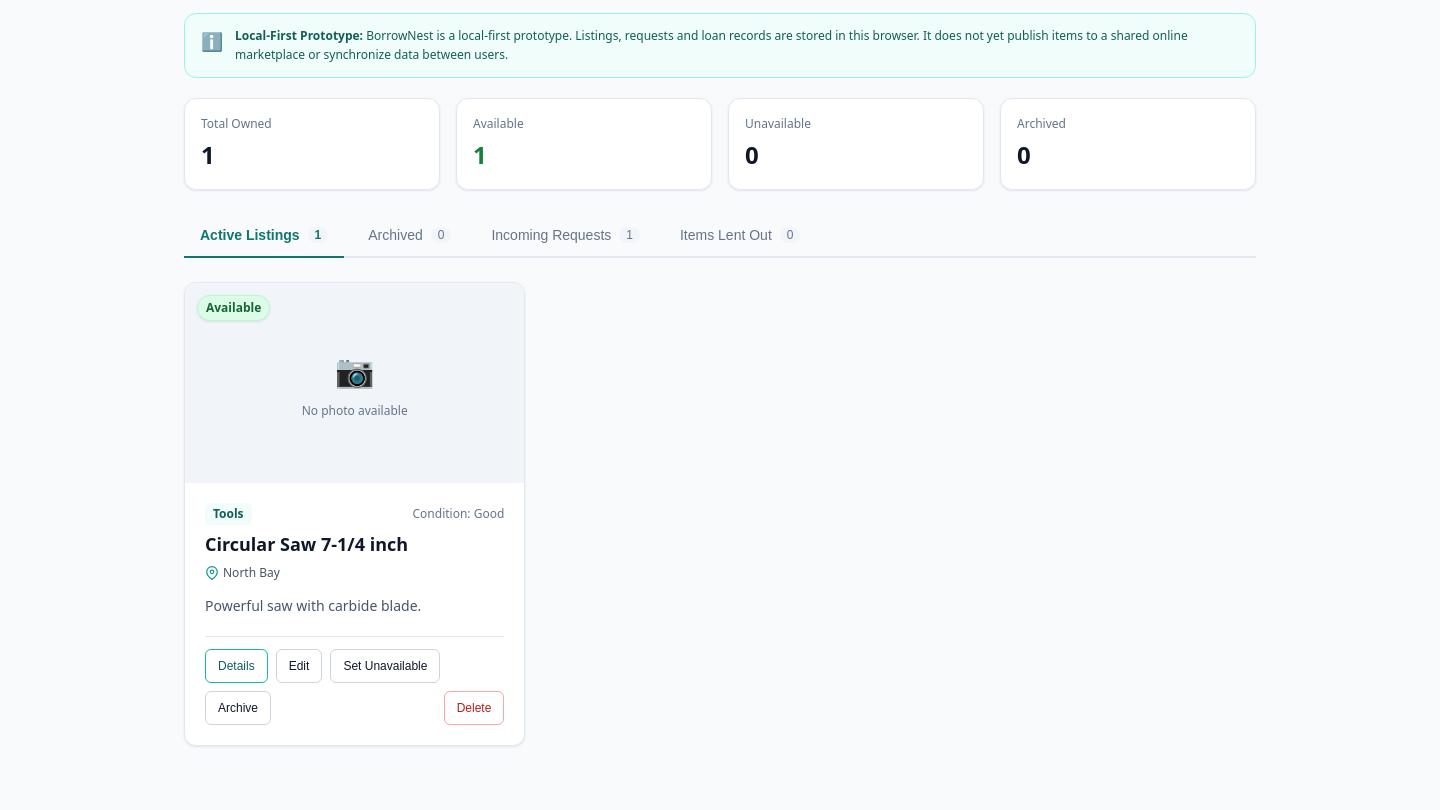
Test case: LendingPage UI and Item Lifecycle › blocks deleting item with request history and displays helpful error banner
The image size is (1440, 810).
(page scrolled)
Check: the heading "Circular Saw 7-1/4 inch" is shown, box [205,532,408,556]
Attempt to delete
Click the button with aria-label "Delete Circular Saw 7-1/4 inch" at (474, 708), box [444,690,504,724]
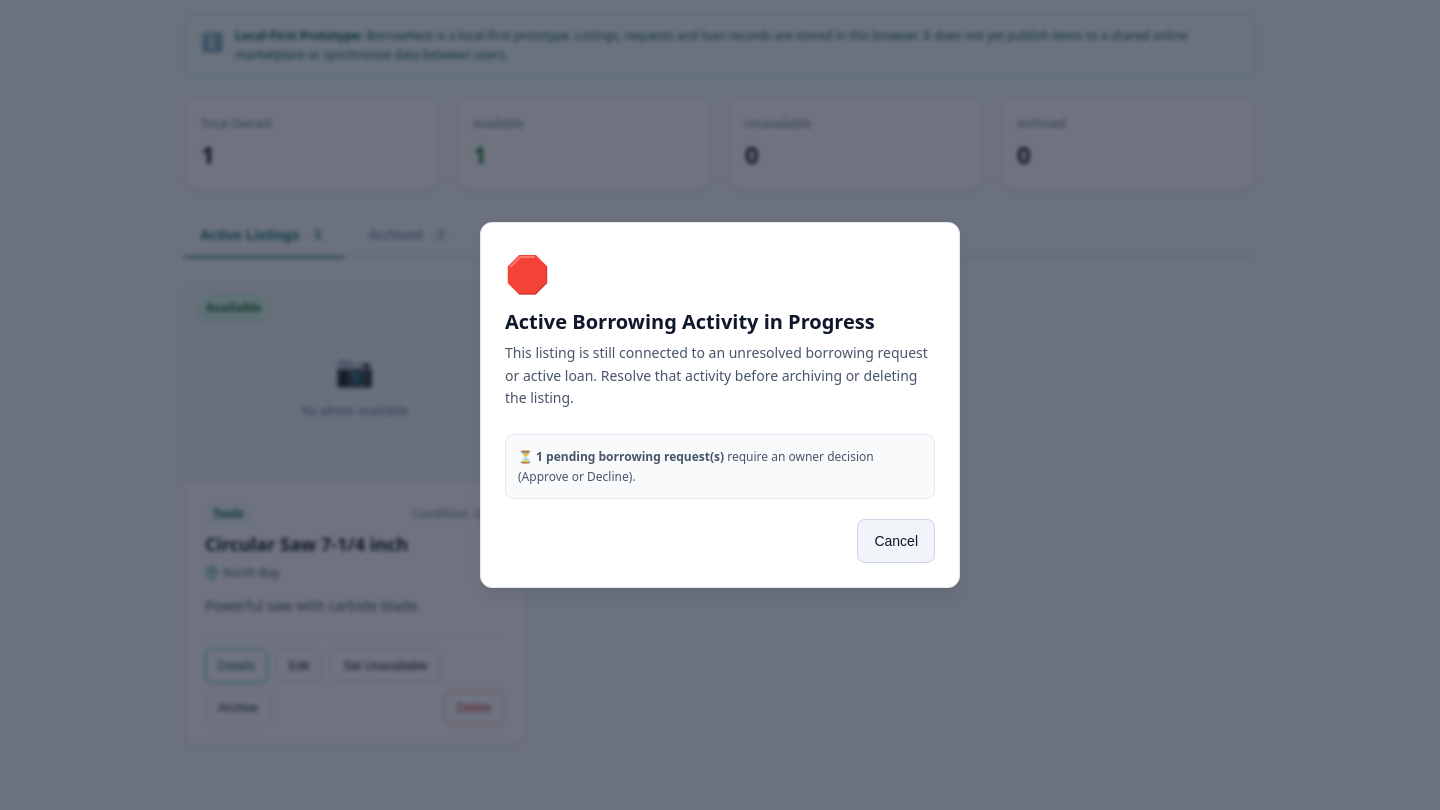
Check: the heading "Active Borrowing Activity in Progress" is shown, box [505,309,935,334]
Check: the text "1 pending borrowing request(s)" is shown, box [536,448,724,465]
